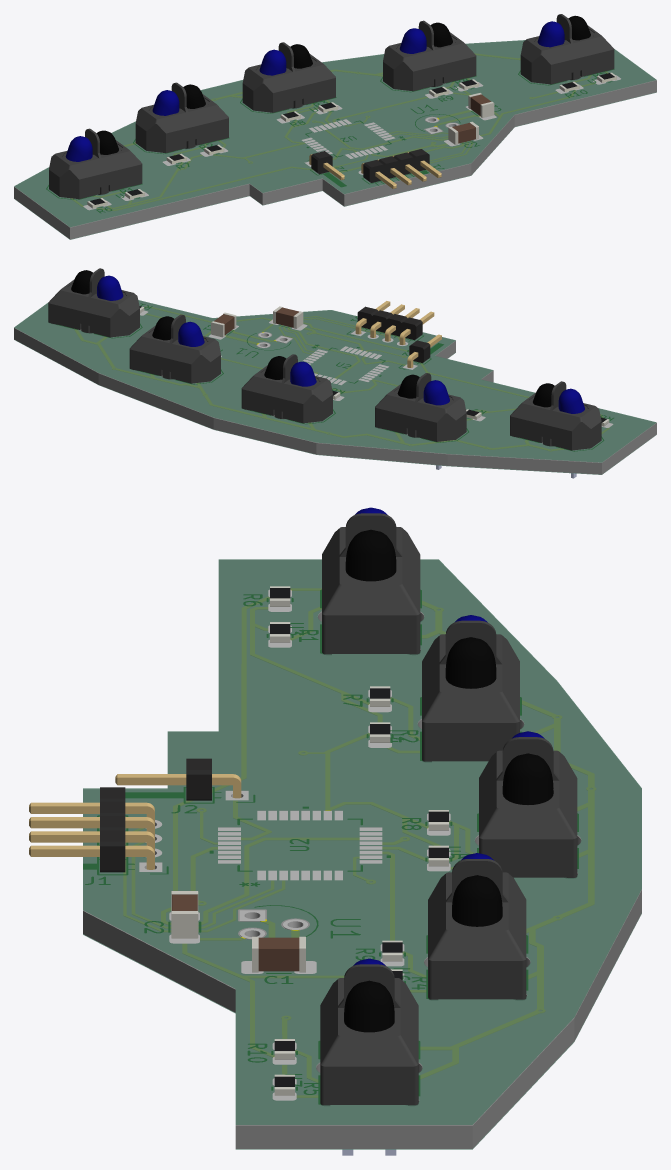
The model's file is line-follower-sensor-array-v2.glb.
3 views of the same model, one above another, from view 1: azimuth 30°, elevation 25°; view 2: azimuth 150°, elevation 25°; view 3: azimuth 270°, elevation 25° (orthographic). The views are drawn at different scales.
Parts seen in each view (by area): view 1: =>[0:1:1:12], =>[0:1:1:11], U7, U4, U5, U6, U3, =>[0:1:1:8], J1, =>[0:1:1:10], =>[0:1:1:7], J2 (+2 smaller); view 2: =>[0:1:1:12], =>[0:1:1:11], U3, U4, U7, U6, U5, J1, =>[0:1:1:7], =>[0:1:1:8], =>[0:1:1:10], J2 (+2 smaller); view 3: =>[0:1:1:11], =>[0:1:1:12], U7, U6, U3, U5, U4, =>[0:1:1:7], J1, =>[0:1:1:8], =>[0:1:1:10], J2 (+2 smaller).
Boxes of the visible parts, x1,y1,x2,y2 form: =>[0:1:1:12]: (14, 41, 656, 239); =>[0:1:1:11]: (14, 40, 656, 239); U7: (520, 14, 614, 84); U4: (135, 82, 228, 153); U5: (242, 42, 335, 112); U6: (383, 20, 476, 91); U3: (49, 128, 142, 199); =>[0:1:1:8]: (83, 75, 620, 210); J1: (361, 149, 441, 188); =>[0:1:1:10]: (46, 69, 614, 213); =>[0:1:1:7]: (73, 54, 607, 210); J2: (309, 151, 344, 180); =>[0:1:1:12]: (14, 301, 656, 474); =>[0:1:1:11]: (14, 300, 656, 474); U3: (510, 381, 601, 478); U4: (375, 373, 466, 469); U7: (48, 268, 139, 337); U6: (129, 314, 220, 383); U5: (241, 354, 332, 423); J1: (355, 301, 434, 344); =>[0:1:1:7]: (75, 307, 609, 450); =>[0:1:1:8]: (140, 310, 613, 427); =>[0:1:1:10]: (56, 303, 613, 451); J2: (407, 334, 441, 367); =>[0:1:1:11]: (83, 559, 641, 1149); =>[0:1:1:12]: (83, 560, 641, 1148); U7: (320, 958, 418, 1155); U6: (428, 853, 526, 999); U3: (322, 507, 420, 654); U5: (479, 731, 577, 878); U4: (422, 615, 519, 761); =>[0:1:1:7]: (124, 589, 595, 1097); J1: (29, 787, 154, 872); =>[0:1:1:8]: (139, 589, 450, 1100); =>[0:1:1:10]: (83, 589, 578, 1104); J2: (115, 758, 241, 800).
Bounding box in the file's own units: 0.079 × 0.011 × 0.0362.
